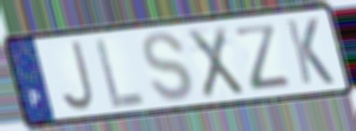J: (58, 38, 97, 114)
K: (283, 16, 337, 87)
L: (92, 35, 148, 112)
S: (139, 29, 196, 104)
X: (184, 24, 247, 101)
Z: (231, 21, 294, 93)
